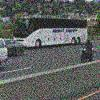buses: (5, 12, 90, 52)
